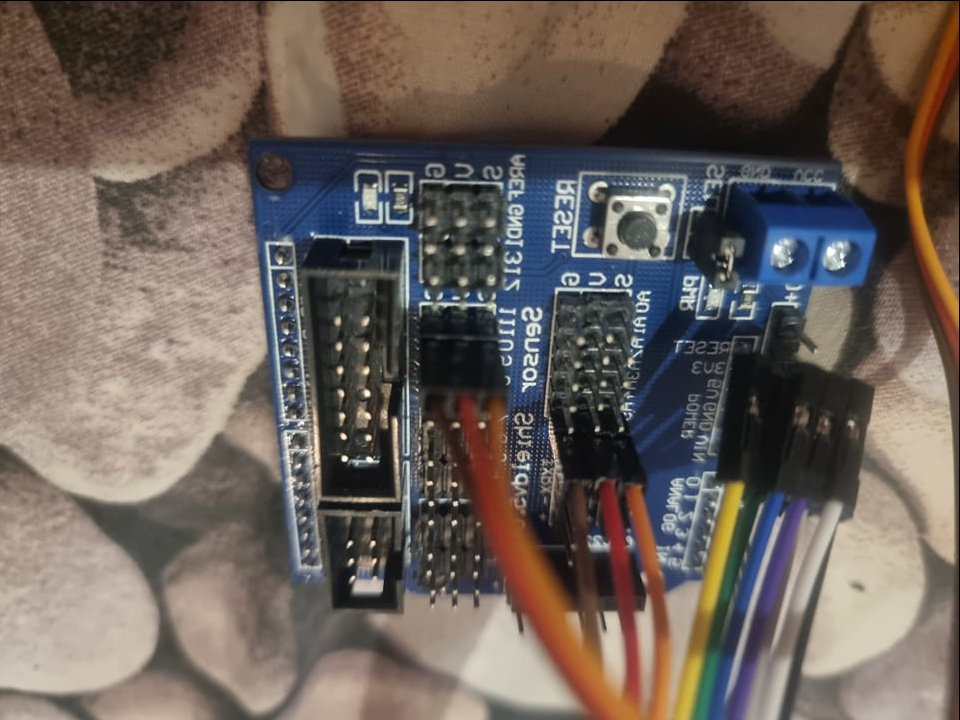5V EXPANSION: (248, 136, 880, 620)
